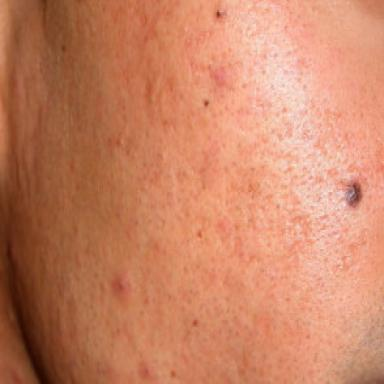acne: (113, 273, 131, 299), (138, 362, 155, 382), (213, 68, 226, 85)
